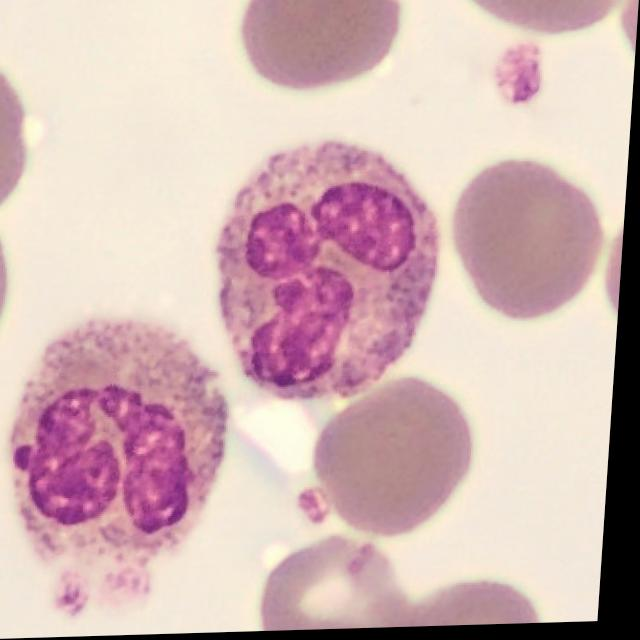Neutrofilo segmentado: (217, 141, 445, 400), (15, 317, 236, 561)
